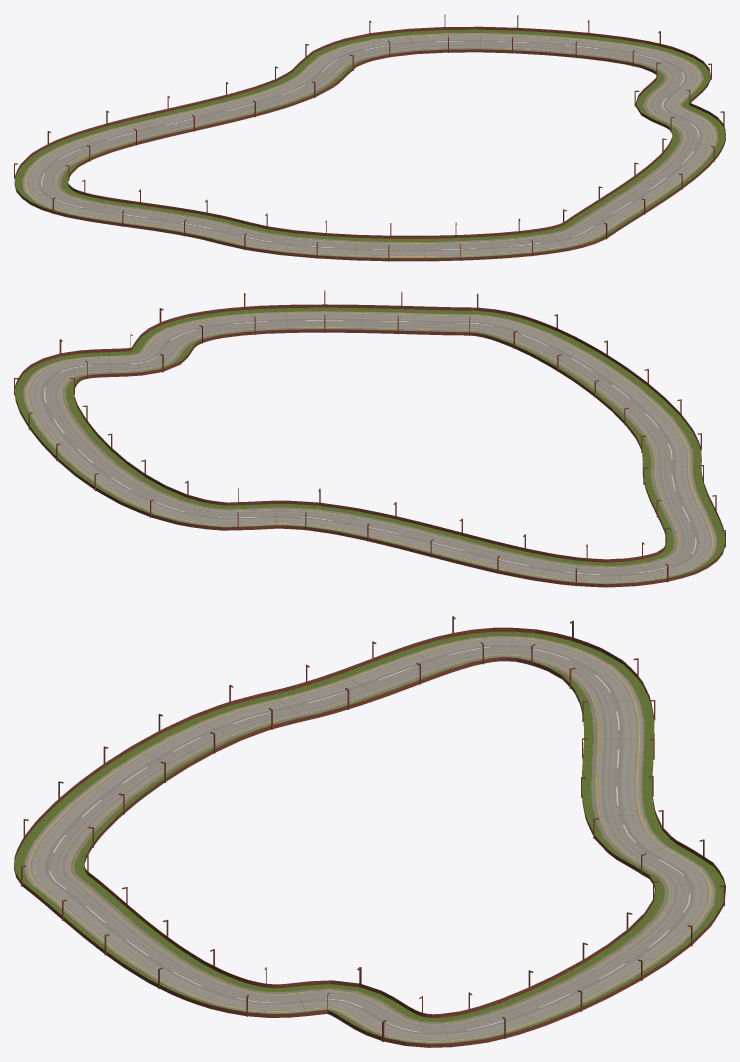
Rendered from track01.fbx.
The picture shows the model from 3 angles, top to bottom: view 1: azimuth 30°, elevation 25°; view 2: azimuth 150°, elevation 25°; view 3: azimuth 270°, elevation 25°; orthographic projection. The views are drawn at different scales.
Parts seen in each view (by area): view 1: road, gravel, barrierWhite, barrierYellow; view 2: road, gravel, barrierWhite, barrierYellow; view 3: road, gravel, barrierWhite, barrierYellow.
Part boxes in pixels (<box>): road: <box>23,33,717,257</box>; gravel: <box>15,29,725,258</box>; barrierWhite: <box>14,14,725,261</box>; barrierYellow: <box>65,35,674,238</box>; road: <box>24,311,716,583</box>; gravel: <box>15,307,724,584</box>; barrierWhite: <box>14,290,725,587</box>; barrierYellow: <box>70,314,669,562</box>; road: <box>25,636,714,1042</box>; gravel: <box>14,631,725,1043</box>; barrierWhite: <box>14,616,725,1047</box>; barrierYellow: <box>83,642,658,1017</box>.
Bounding box in the file's own units: 9693 × 219 × 7009.
Materials: 1 (1 with a texture image).
